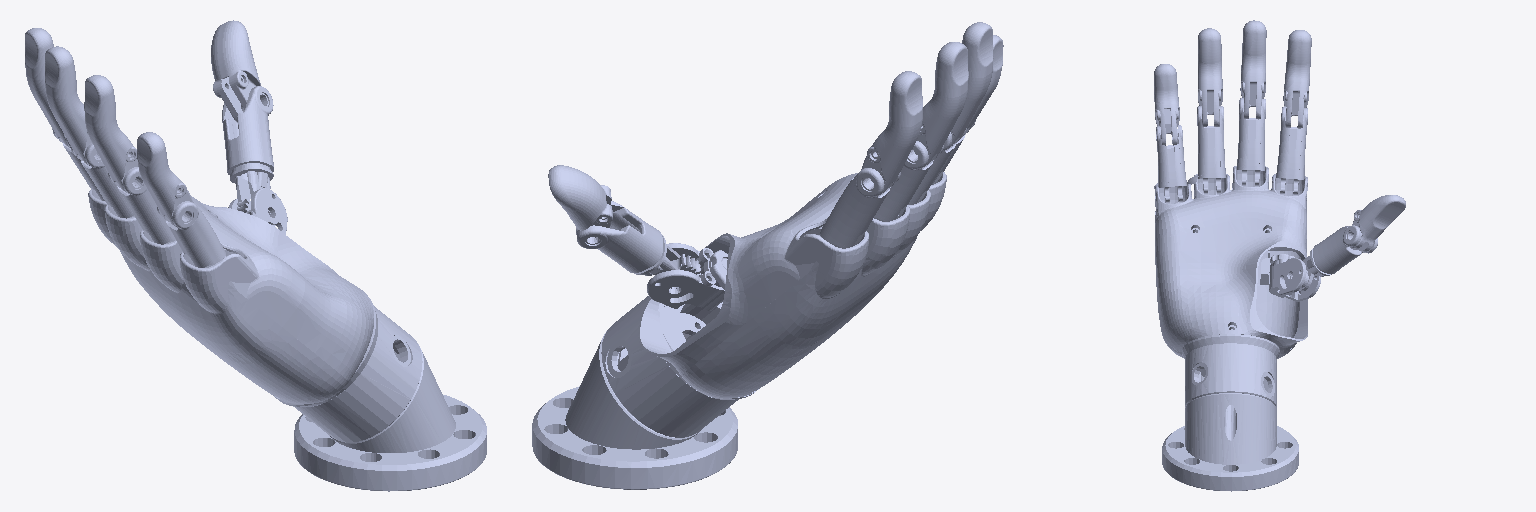
URDF robot description (MechHand_deg45_V2):
<?xml version="1.0" encoding="utf-8"?>
<!-- This URDF was automatically created by SolidWorks to URDF Exporter! Originally created by Stephen Brawner (brawner@gmail.com)
     Commit Version: 1.6.0-4-g7f85cfe  Build Version: 1.6.7995.38578
     For more information, please see http://wiki.ros.org/sw_urdf_exporter -->
<robot
  name="MechHand_deg45_V2">
  <link
    name="base_link">
    <inertial>
      <origin
        xyz="-0.015063 -6.5722E-05 0.031292"
        rpy="0 0 0" />
      <mass
        value="0.069401" />
      <inertia
        ixx="2.3266E-05"
        ixy="7.9666E-07"
        ixz="2.1931E-06"
        iyy="2.0555E-05"
        iyz="-5.6916E-07"
        izz="3.0893E-05" />
    </inertial>
    <visual>
      <origin
        xyz="0 0 0"
        rpy="0 0 0" />
      <geometry>
        <mesh
          filename="package:///meshes/base_link.STL" />
      </geometry>
      <material
        name="">
        <color
          rgba="0.79216 0.81961 0.93333 1" />
      </material>
    </visual>
    <collision>
      <origin
        xyz="0 0 0"
        rpy="0 0 0" />
      <geometry>
        <mesh
          filename="package:///meshes/base_link.STL" />
      </geometry>
    </collision>
  </link>
  <link
    name="F1_L1">
    <inertial>
      <origin
        xyz="-0.0039586 0.0036793 0.004467"
        rpy="0 0 0" />
      <mass
        value="0.0014107" />
      <inertia
        ixx="8.1067E-08"
        ixy="2.2203E-08"
        ixz="-3.8302E-09"
        iyy="7.3522E-08"
        iyz="4.1624E-09"
        izz="1.04E-07" />
    </inertial>
    <visual>
      <origin
        xyz="0 0 0"
        rpy="0 0 0" />
      <geometry>
        <mesh
          filename="package:///meshes/F1_L1.STL" />
      </geometry>
      <material
        name="">
        <color
          rgba="0.79216 0.81961 0.93333 1" />
      </material>
    </visual>
    <collision>
      <origin
        xyz="0 0 0"
        rpy="0 0 0" />
      <geometry>
        <mesh
          filename="package:///meshes/F1_L1.STL" />
      </geometry>
    </collision>
  </link>
  <joint
    name="F1_J1"
    type="revolute">
    <origin
      xyz="-0.034849 0.023663 0.070578"
      rpy="0.78612 -0.041061 -1.5901" />
    <parent
      link="base_link" />
    <child
      link="F1_L1" />
    <axis
      xyz="0 0 1" />
    <limit
      lower="-3.1416"
      upper="3.1416"
      effort="0"
      velocity="0" />
  </joint>
  <link
    name="F1_L2">
    <inertial>
      <origin
        xyz="0.019719 0.0054866 0.0059642"
        rpy="0 0 0" />
      <mass
        value="0.0031477" />
      <inertia
        ixx="1.1339E-07"
        ixy="-5.9344E-08"
        ixz="-7.1608E-12"
        iyy="3.9094E-07"
        iyz="-2.5455E-12"
        izz="3.9711E-07" />
    </inertial>
    <visual>
      <origin
        xyz="0 0 0"
        rpy="0 0 0" />
      <geometry>
        <mesh
          filename="package:///meshes/F1_L2.STL" />
      </geometry>
      <material
        name="">
        <color
          rgba="0.79216 0.81961 0.93333 1" />
      </material>
    </visual>
    <collision>
      <origin
        xyz="0 0 0"
        rpy="0 0 0" />
      <geometry>
        <mesh
          filename="package:///meshes/F1_L2.STL" />
      </geometry>
    </collision>
  </link>
  <joint
    name="F1_J2"
    type="revolute">
    <origin
      xyz="-0.011988 0.0036468 0.00381"
      rpy="1.5708 -0.06091 2.3469" />
    <parent
      link="F1_L1" />
    <child
      link="F1_L2" />
    <axis
      xyz="0 0 1" />
    <limit
      lower="-3.1416"
      upper="3.1416"
      effort="0"
      velocity="0" />
  </joint>
  <link
    name="F1_L3">
    <inertial>
      <origin
        xyz="0.010592 0.0077458 0.006601"
        rpy="0 0 0" />
      <mass
        value="0.0027429" />
      <inertia
        ixx="9.7739E-08"
        ixy="-6.3646E-08"
        ixz="8.1683E-12"
        iyy="1.8096E-07"
        iyz="-1.5923E-12"
        izz="2.0784E-07" />
    </inertial>
    <visual>
      <origin
        xyz="0 0 0"
        rpy="0 0 0" />
      <geometry>
        <mesh
          filename="package:///meshes/F1_L3.STL" />
      </geometry>
      <material
        name="">
        <color
          rgba="0.79216 0.81961 0.93333 1" />
      </material>
    </visual>
    <collision>
      <origin
        xyz="0 0 0"
        rpy="0 0 0" />
      <geometry>
        <mesh
          filename="package:///meshes/F1_L3.STL" />
      </geometry>
    </collision>
  </link>
  <joint
    name="F1_J3"
    type="revolute">
    <origin
      xyz="0.039449 0.0081057 -0.0006"
      rpy="0 0 0" />
    <parent
      link="F1_L2" />
    <child
      link="F1_L3" />
    <axis
      xyz="0 0 1" />
    <limit
      lower="-3.1416"
      upper="3.1416"
      effort="0"
      velocity="0" />
  </joint>
  <link
    name="F2_L1">
    <inertial>
      <origin
        xyz="0.01535 -0.0025396 0.0039829"
        rpy="0 0 0" />
      <mass
        value="0.0025565" />
      <inertia
        ixx="5.8289E-08"
        ixy="3.8292E-08"
        ixz="5.9035E-13"
        iyy="2.5708E-07"
        iyz="6.4758E-12"
        izz="2.4721E-07" />
    </inertial>
    <visual>
      <origin
        xyz="0 0 0"
        rpy="0 0 0" />
      <geometry>
        <mesh
          filename="package:///meshes/F2_L1.STL" />
      </geometry>
      <material
        name="">
        <color
          rgba="0.79216 0.81961 0.93333 1" />
      </material>
    </visual>
    <collision>
      <origin
        xyz="0 0 0"
        rpy="0 0 0" />
      <geometry>
        <mesh
          filename="package:///meshes/F2_L1.STL" />
      </geometry>
    </collision>
  </link>
  <joint
    name="F2_J1"
    type="revolute">
    <origin
      xyz="-0.082731 0.030793 0.097776"
      rpy="-1.4859 -0.7819 3.0431" />
    <parent
      link="base_link" />
    <child
      link="F2_L1" />
    <axis
      xyz="0 0 -1" />
    <limit
      lower="-3.1416"
      upper="3.1416"
      effort="0"
      velocity="0" />
  </joint>
  <link
    name="F2_L2">
    <inertial>
      <origin
        xyz="0.017888 -0.0070454 0.0060874"
        rpy="0 0 0" />
      <mass
        value="0.0032121" />
      <inertia
        ixx="1.2784E-07"
        ixy="1.4995E-07"
        ixz="-1.0416E-11"
        iyy="3.4885E-07"
        iyz="-2.062E-12"
        izz="4.2269E-07" />
    </inertial>
    <visual>
      <origin
        xyz="0 0 0"
        rpy="0 0 0" />
      <geometry>
        <mesh
          filename="package:///meshes/F2_L2.STL" />
      </geometry>
      <material
        name="">
        <color
          rgba="0.79216 0.81961 0.93333 1" />
      </material>
    </visual>
    <collision>
      <origin
        xyz="0 0 0"
        rpy="0 0 0" />
      <geometry>
        <mesh
          filename="package:///meshes/F2_L2.STL" />
      </geometry>
    </collision>
  </link>
  <joint
    name="F2_J2"
    type="revolute">
    <origin
      xyz="0.034836 -0.0065719 -0.00214"
      rpy="0 0 0" />
    <parent
      link="F2_L1" />
    <child
      link="F2_L2" />
    <axis
      xyz="0 0 -1" />
    <limit
      lower="-3.1416"
      upper="3.1416"
      effort="0"
      velocity="0" />
  </joint>
  <link
    name="F3_L1">
    <inertial>
      <origin
        xyz="0.01535 -0.0025396 0.0039829"
        rpy="0 0 0" />
      <mass
        value="0.0025565" />
      <inertia
        ixx="5.8288E-08"
        ixy="3.8292E-08"
        ixz="6.2125E-13"
        iyy="2.5708E-07"
        iyz="6.5466E-12"
        izz="2.4721E-07" />
    </inertial>
    <visual>
      <origin
        xyz="0 0 0"
        rpy="0 0 0" />
      <geometry>
        <mesh
          filename="package:///meshes/F3_L1.STL" />
      </geometry>
      <material
        name="">
        <color
          rgba="0.79216 0.81961 0.93333 1" />
      </material>
    </visual>
    <collision>
      <origin
        xyz="0 0 0"
        rpy="0 0 0" />
      <geometry>
        <mesh
          filename="package:///meshes/F3_L1.STL" />
      </geometry>
    </collision>
  </link>
  <joint
    name="F3_J1"
    type="revolute">
    <origin
      xyz="-0.087072 0.013121 0.10038"
      rpy="-1.5322 -0.78477 3.1087" />
    <parent
      link="base_link" />
    <child
      link="F3_L1" />
    <axis
      xyz="0 0 -1" />
    <limit
      lower="-3.1416"
      upper="3.1416"
      effort="0"
      velocity="0" />
  </joint>
  <link
    name="F3_L2">
    <inertial>
      <origin
        xyz="0.017888 -0.0070454 0.0060874"
        rpy="0 0 0" />
      <mass
        value="0.0032121" />
      <inertia
        ixx="1.2784E-07"
        ixy="1.4995E-07"
        ixz="-1.0439E-11"
        iyy="3.4885E-07"
        iyz="-2.0425E-12"
        izz="4.2269E-07" />
    </inertial>
    <visual>
      <origin
        xyz="0 0 0"
        rpy="0 0 0" />
      <geometry>
        <mesh
          filename="package:///meshes/F3_L2.STL" />
      </geometry>
      <material
        name="">
        <color
          rgba="0.79216 0.81961 0.93333 1" />
      </material>
    </visual>
    <collision>
      <origin
        xyz="0 0 0"
        rpy="0 0 0" />
      <geometry>
        <mesh
          filename="package:///meshes/F3_L2.STL" />
      </geometry>
    </collision>
  </link>
  <joint
    name="F3_J2"
    type="revolute">
    <origin
      xyz="0.034836 -0.0065719 -0.00214"
      rpy="0 0 0" />
    <parent
      link="F3_L1" />
    <child
      link="F3_L2" />
    <axis
      xyz="0 0 -1" />
    <limit
      lower="-3.1416"
      upper="3.1416"
      effort="0"
      velocity="0" />
  </joint>
  <link
    name="F4_L1">
    <inertial>
      <origin
        xyz="-0.01535 0.0025395 0.0039829"
        rpy="0 0 0" />
      <mass
        value="0.0025565" />
      <inertia
        ixx="5.8289E-08"
        ixy="3.8293E-08"
        ixz="-5.433E-13"
        iyy="2.5708E-07"
        iyz="-6.4736E-12"
        izz="2.4721E-07" />
    </inertial>
    <visual>
      <origin
        xyz="0 0 0"
        rpy="0 0 0" />
      <geometry>
        <mesh
          filename="package:///meshes/F4_L1.STL" />
      </geometry>
      <material
        name="">
        <color
          rgba="0.79216 0.81961 0.93333 1" />
      </material>
    </visual>
    <collision>
      <origin
        xyz="0 0 0"
        rpy="0 0 0" />
      <geometry>
        <mesh
          filename="package:///meshes/F4_L1.STL" />
      </geometry>
    </collision>
  </link>
  <joint
    name="F4_J1"
    type="revolute">
    <origin
      xyz="-0.084217 -0.0045472 0.097909"
      rpy="1.5787 0.78549 0.032906" />
    <parent
      link="base_link" />
    <child
      link="F4_L1" />
    <axis
      xyz="0 0 -1" />
    <limit
      lower="-3.1416"
      upper="3.1416"
      effort="0"
      velocity="0" />
  </joint>
  <link
    name="F4_L2">
    <inertial>
      <origin
        xyz="-0.017888 0.0070454 0.0060874"
        rpy="0 0 0" />
      <mass
        value="0.0032121" />
      <inertia
        ixx="1.2784E-07"
        ixy="1.4995E-07"
        ixz="9.9986E-12"
        iyy="3.4884E-07"
        iyz="2.0466E-12"
        izz="4.2269E-07" />
    </inertial>
    <visual>
      <origin
        xyz="0 0 0"
        rpy="0 0 0" />
      <geometry>
        <mesh
          filename="package:///meshes/F4_L2.STL" />
      </geometry>
      <material
        name="">
        <color
          rgba="0.79216 0.81961 0.93333 1" />
      </material>
    </visual>
    <collision>
      <origin
        xyz="0 0 0"
        rpy="0 0 0" />
      <geometry>
        <mesh
          filename="package:///meshes/F4_L2.STL" />
      </geometry>
    </collision>
  </link>
  <joint
    name="F4_J2"
    type="revolute">
    <origin
      xyz="-0.034836 0.0065719 -0.00214"
      rpy="0 0 0" />
    <parent
      link="F4_L1" />
    <child
      link="F4_L2" />
    <axis
      xyz="0 0 -1" />
    <limit
      lower="-3.1416"
      upper="3.1416"
      effort="0"
      velocity="0" />
  </joint>
  <link
    name="F5_L1">
    <inertial>
      <origin
        xyz="-0.015073 0.0025712 0.0039805"
        rpy="0 0 0" />
      <mass
        value="0.0019126" />
      <inertia
        ixx="2.1786E-08"
        ixy="2.3665E-08"
        ixz="6.8302E-12"
        iyy="1.4718E-07"
        iyz="-3.7826E-12"
        izz="1.5958E-07" />
    </inertial>
    <visual>
      <origin
        xyz="0 0 0"
        rpy="0 0 0" />
      <geometry>
        <mesh
          filename="package:///meshes/F5_L1.STL" />
      </geometry>
      <material
        name="">
        <color
          rgba="0.79216 0.81961 0.93333 1" />
      </material>
    </visual>
    <collision>
      <origin
        xyz="0 0 0"
        rpy="0 0 0" />
      <geometry>
        <mesh
          filename="package:///meshes/F5_L1.STL" />
      </geometry>
    </collision>
  </link>
  <joint
    name="F5_J1"
    type="revolute">
    <origin
      xyz="-0.079656 -0.02214 0.095853"
      rpy="1.6252 0.78404 0.098667" />
    <parent
      link="base_link" />
    <child
      link="F5_L1" />
    <axis
      xyz="0 0 -1" />
    <limit
      lower="-3.1416"
      upper="3.1416"
      effort="0"
      velocity="0" />
  </joint>
  <link
    name="F5_L2">
    <inertial>
      <origin
        xyz="-0.014507 0.0046646 0.0063"
        rpy="0 0 0" />
      <mass
        value="0.0021676" />
      <inertia
        ixx="6.0083E-08"
        ixy="6.2867E-08"
        ixz="3.1417E-12"
        iyy="1.9102E-07"
        iyz="-5.5636E-13"
        izz="2.1354E-07" />
    </inertial>
    <visual>
      <origin
        xyz="0 0 0"
        rpy="0 0 0" />
      <geometry>
        <mesh
          filename="package:///meshes/F5_L2.STL" />
      </geometry>
      <material
        name="">
        <color
          rgba="0.79216 0.81961 0.93333 1" />
      </material>
    </visual>
    <collision>
      <origin
        xyz="0 0 0"
        rpy="0 0 0" />
      <geometry>
        <mesh
          filename="package:///meshes/F5_L2.STL" />
      </geometry>
    </collision>
  </link>
  <joint
    name="F5_J2"
    type="revolute">
    <origin
      xyz="-0.029945 0.0056487 -0.00202"
      rpy="0 0 0" />
    <parent
      link="F5_L1" />
    <child
      link="F5_L2" />
    <axis
      xyz="0 0 -1" />
    <limit
      lower="-3.1416"
      upper="3.1416"
      effort="0"
      velocity="0" />
  </joint>
</robot>

--- What the picture shows (computed from the rendered views, not written in the file) ---
3 views of the same robot in one strip: view 1: azimuth 30°, elevation 25°; view 2: azimuth 150°, elevation 25°; view 3: azimuth 270°, elevation 25° (orthographic).
Model MechHand_deg45_V2 with 12 links and 11 joints (11 revolute), rooted at base_link, posed every joint at zero.
Visible links, largest first — view 1: base_link, F1_L2, F4_L2, F1_L3, F3_L2, F5_L2, F5_L1, F4_L1, F2_L2, F3_L1, F1_L1; view 2: base_link, F1_L2, F2_L2, F3_L2, F2_L1, F1_L3, F1_L1, F4_L2, F3_L1, F4_L1, F5_L2; view 3: base_link, F2_L2, F4_L2, F3_L2, F1_L2, F4_L1, F3_L1, F2_L1, F5_L2, F1_L3, F5_L1, F1_L1.
Link boxes in pixels (<box>): base_link: <box>88,190,486,491</box>; F1_L2: <box>222,86,275,226</box>; F4_L2: <box>84,75,139,193</box>; F1_L3: <box>211,20,262,122</box>; F3_L2: <box>45,46,99,165</box>; F5_L2: <box>137,132,193,227</box>; F5_L1: <box>157,201,227,267</box>; F4_L1: <box>108,167,175,244</box>; F2_L2: <box>25,28,70,147</box>; F3_L1: <box>70,143,134,218</box>; F1_L1: <box>228,188,287,234</box>; base_link: <box>532,172,946,489</box>; F1_L2: <box>577,201,700,288</box>; F2_L2: <box>861,71,922,194</box>; F3_L2: <box>910,42,968,166</box>; F2_L1: <box>817,168,900,248</box>; F1_L3: <box>548,165,612,237</box>; F1_L1: <box>647,243,724,310</box>; F4_L2: <box>946,22,993,149</box>; F3_L1: <box>874,141,943,221</box>; F4_L1: <box>908,128,966,204</box>; F5_L2: <box>965,35,1003,133</box>; base_link: <box>1154,166,1307,491</box>; F2_L2: <box>1283,30,1311,128</box>; F4_L2: <box>1198,28,1222,126</box>; F3_L2: <box>1240,20,1266,119</box>; F1_L2: <box>1285,225,1377,290</box>; F4_L1: <box>1197,106,1225,194</box>; F3_L1: <box>1237,98,1265,186</box>; F2_L1: <box>1276,106,1307,195</box>; F5_L2: <box>1154,64,1179,145</box>; F1_L3: <box>1351,195,1405,251</box>; F5_L1: <box>1156,125,1186,203</box>; F1_L1: <box>1269,258,1320,301</box>.
Size in the robot's own frame: 0.154 by 0.116 by 0.1683 metres.
Meshes: 12 distinct files referenced, 12 mesh visuals loaded (12 binary STL).
